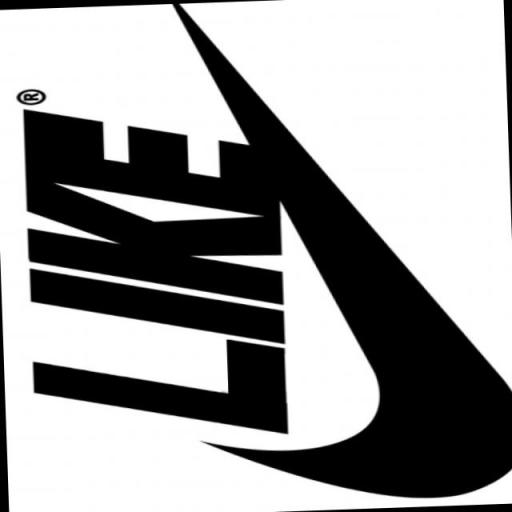Nike: (156, 0, 512, 507), (16, 96, 298, 444)
